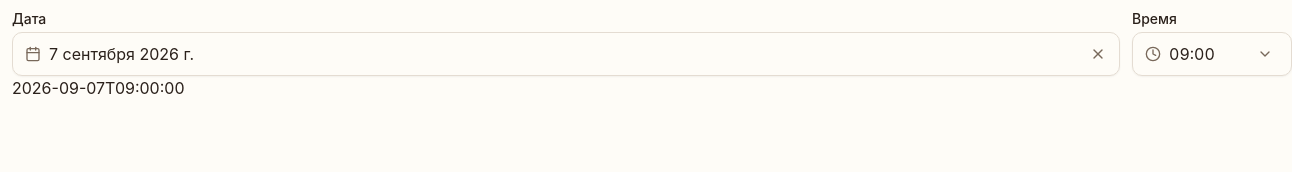
DateTimeField — value round trip › clears to an empty string rather than half a value
Click the button named "Очистить дату". click: (1098, 54)
box: left=1076, top=32, right=1120, bottom=76
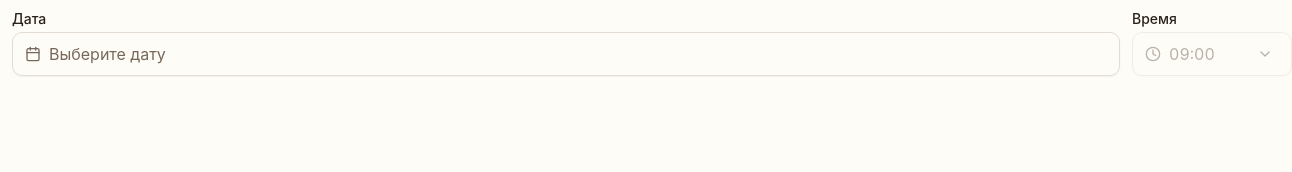
Result: the field labelled "Время" is disabled at left=1169, top=41, right=1235, bottom=67
